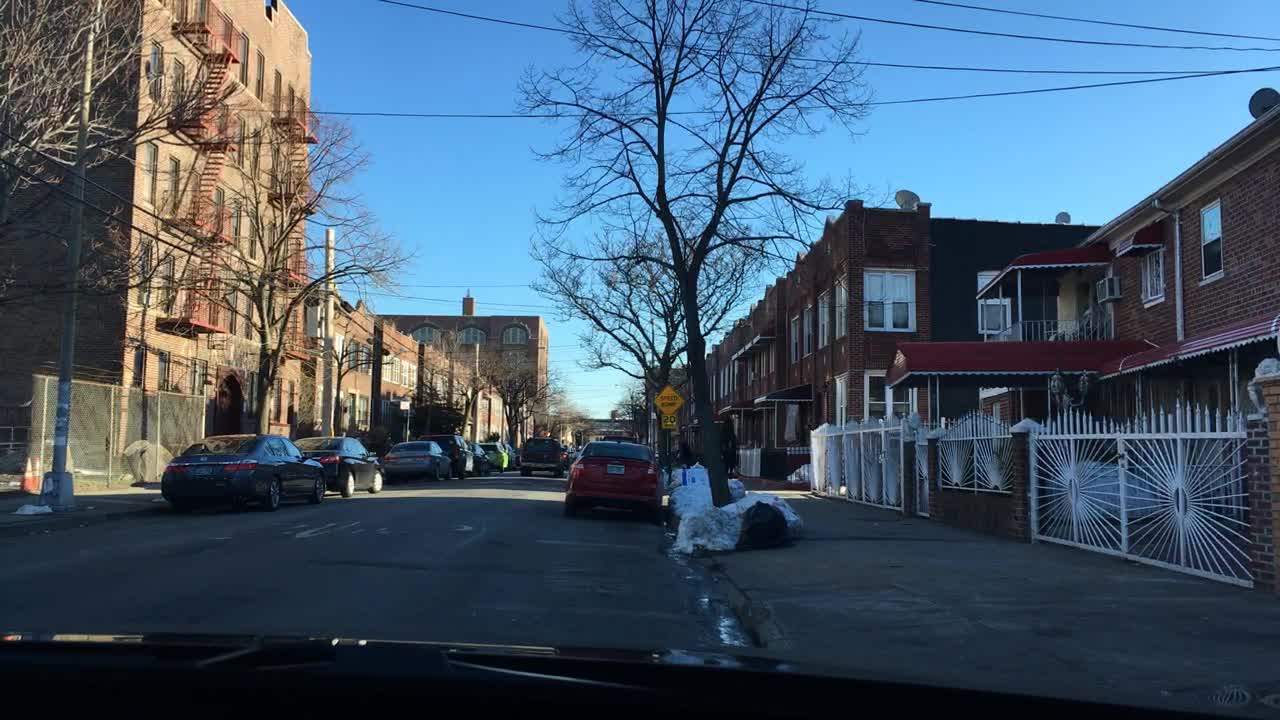car: (159, 433, 327, 512), (562, 439, 662, 522), (291, 435, 378, 495), (380, 439, 454, 484), (415, 433, 475, 477), (516, 434, 565, 478), (479, 443, 512, 473), (483, 443, 519, 469), (457, 443, 491, 470), (562, 445, 582, 466)
traffic sign: (654, 384, 682, 413), (661, 411, 677, 429)
